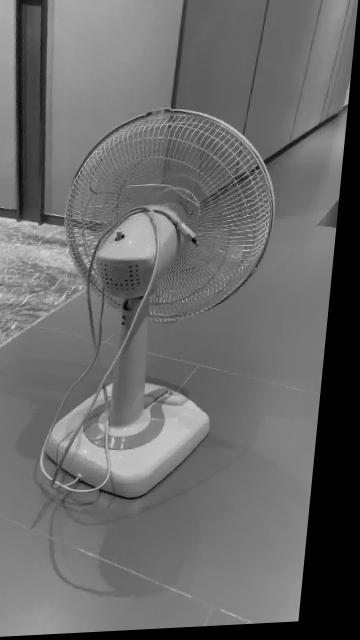Fan: (53, 111, 280, 503)
